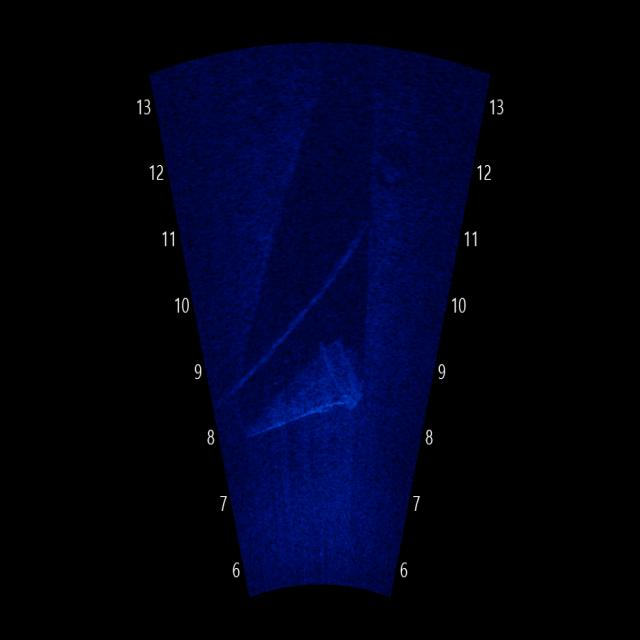triangle: (242, 326, 374, 468)
